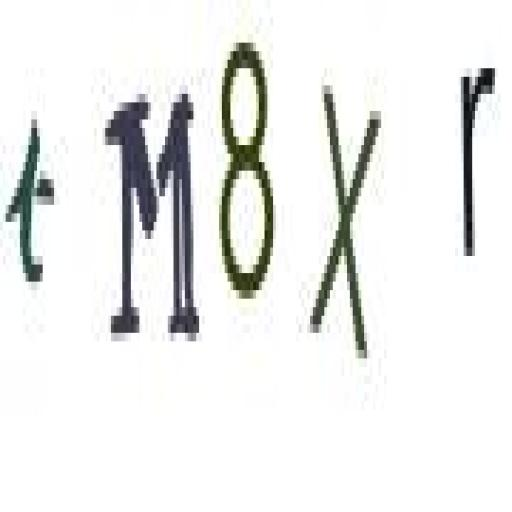8: (211, 21, 277, 317)
M: (98, 77, 205, 360)
X: (299, 60, 382, 369)
r: (456, 46, 498, 273)
t: (1, 91, 58, 312)
